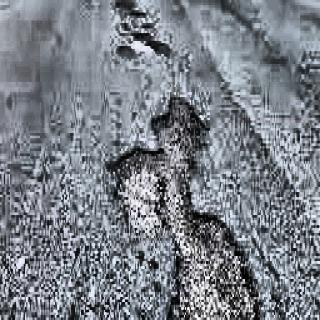pothole: (114, 86, 260, 320), (108, 4, 170, 66)
